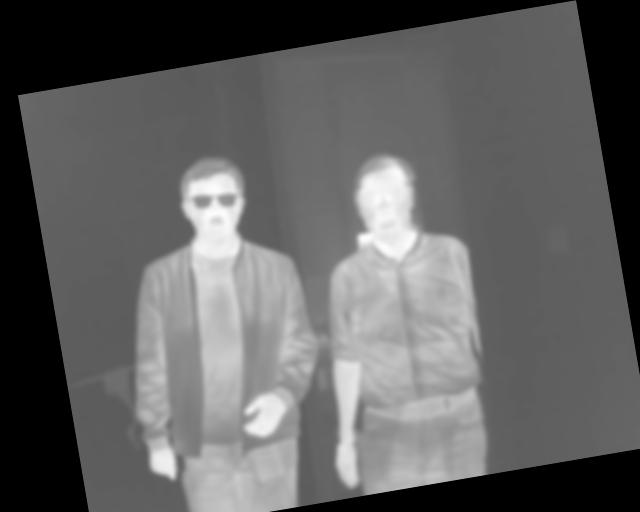face: (171, 150, 253, 252), (345, 148, 424, 249)
